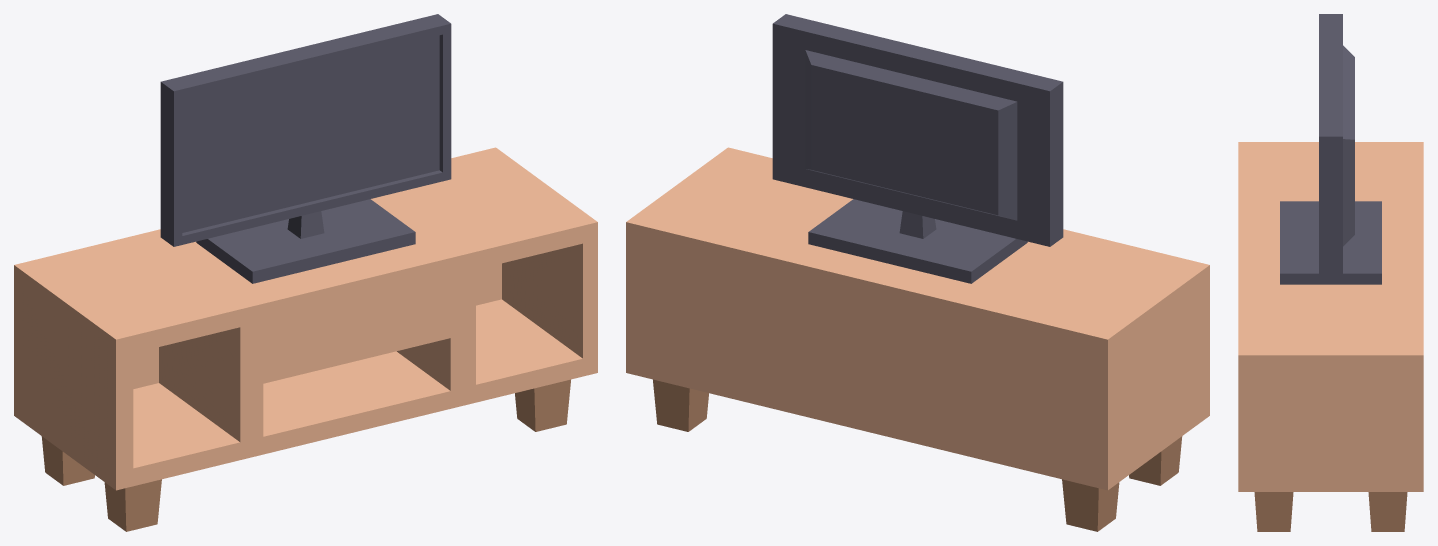
The model's file is tvTable.fbx.
The picture shows the model from 3 angles, left to right: view 1: azimuth 30°, elevation 25°; view 2: azimuth 150°, elevation 25°; view 3: azimuth 270°, elevation 25°; orthographic projection. The views are drawn at different scales.
Parts seen in each view (by area): view 1: Cube.094; view 2: Cube.094; view 3: Cube.094.
Part boxes in pixels (x1=…): Cube.094: x1=14, y1=14, x2=597, y2=531; Cube.094: x1=626, y1=14, x2=1209, y2=531; Cube.094: x1=1238, y1=14, x2=1423, y2=531.
Bounding box in the file's own units: 367 × 288 × 135.
